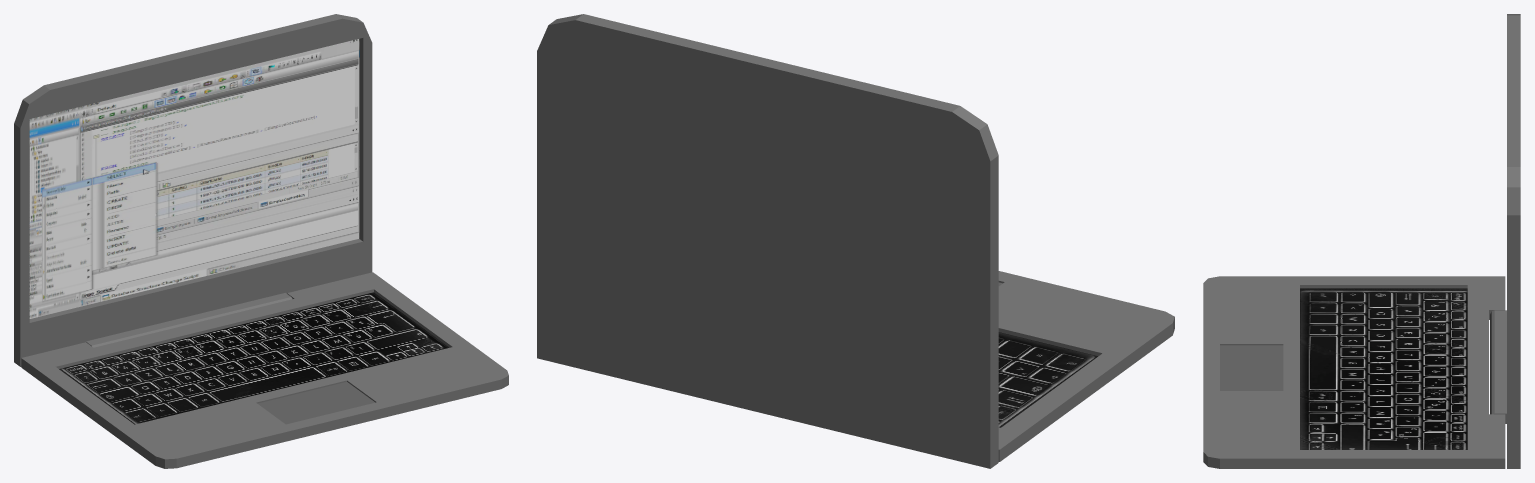
Rendered from pc_portable.fbx.
3 renders of one model, left to right at view 1: azimuth 30°, elevation 25°; view 2: azimuth 150°, elevation 25°; view 3: azimuth 270°, elevation 25°, orthographic. The views are drawn at different scales.
Visible parts, largest first — view 1: pc; view 2: pc; view 3: pc.
Boxes of the visible parts, <box> form: pc: <box>14,14,508,468</box>; pc: <box>537,14,1174,468</box>; pc: <box>1203,14,1520,468</box>.
Bounding box in the file's own units: 0.6699 × 0.4909 × 0.4925.
